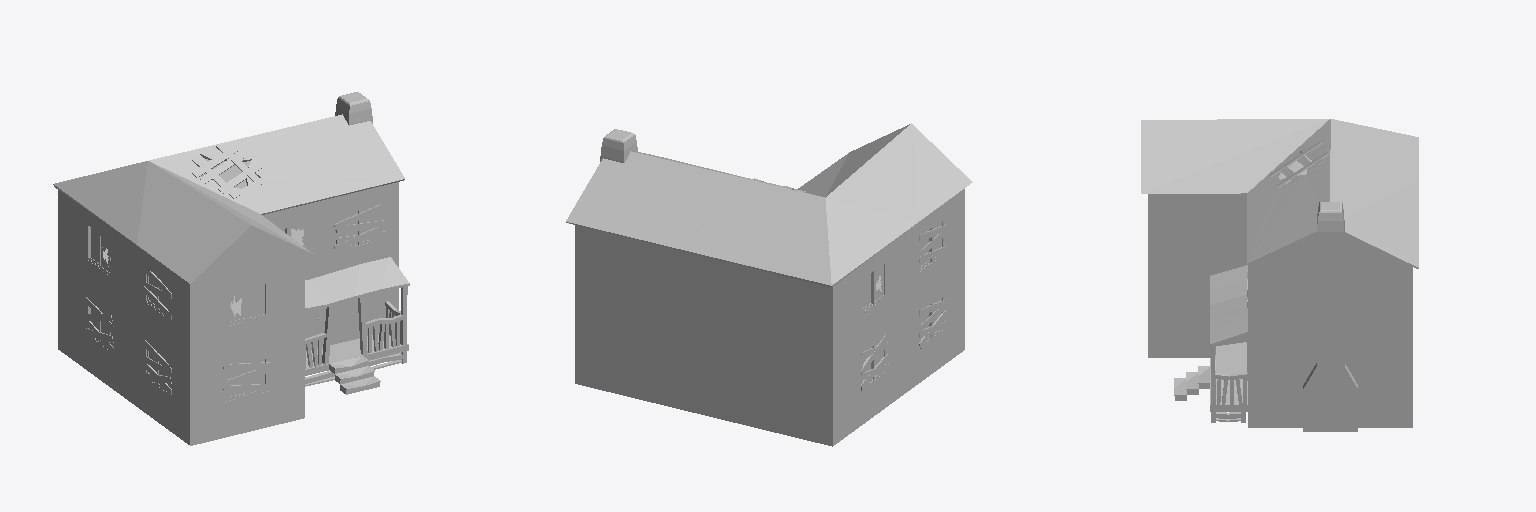
File: abandonedwoodhouse.obj
3 renders of one model, left to right at view 1: azimuth 30°, elevation 25°; view 2: azimuth 150°, elevation 25°; view 3: azimuth 270°, elevation 25°, orthographic.
Parts seen in each view (by area): view 1: obj3, obj6, obj1, obj2, obj7, obj4; view 2: obj3, obj6, obj1, obj7, obj2; view 3: obj3, obj6, obj7, obj1.
Boxes of the visible parts, <box> form: obj3: <box>53,154,409,445</box>; obj6: <box>54,114,408,307</box>; obj1: <box>85,143,384,400</box>; obj2: <box>91,211,377,401</box>; obj7: <box>335,92,372,125</box>; obj4: <box>314,303,340,348</box>; obj3: <box>566,189,964,446</box>; obj6: <box>566,123,972,285</box>; obj1: <box>744,177,946,390</box>; obj7: <box>600,129,637,162</box>; obj2: <box>863,223,942,382</box>; obj3: <box>1148,146,1418,427</box>; obj6: <box>1141,119,1418,343</box>; obj7: <box>1303,202,1357,431</box>; obj1: <box>1247,141,1328,307</box>.
Size of the model in its own units: 18.87 by 14.65 by 16.81.